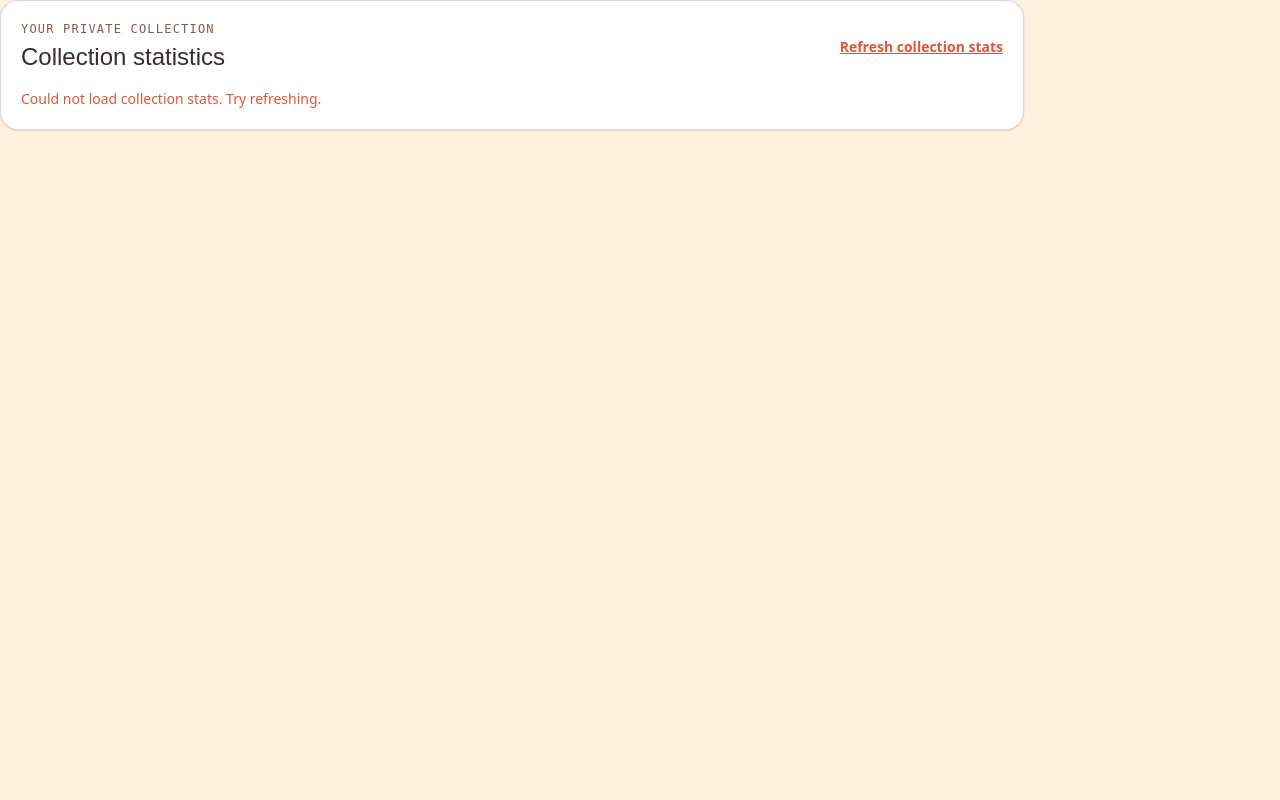
it: Private profile collection statistics › retries failed loads using refresh
expect the message "Could not load collection stats. Try refreshing." is shown: met, box [21,89,321,108]
Click the button "Refresh collection stats". click: (921, 47)
box: [840,37,1003,57]
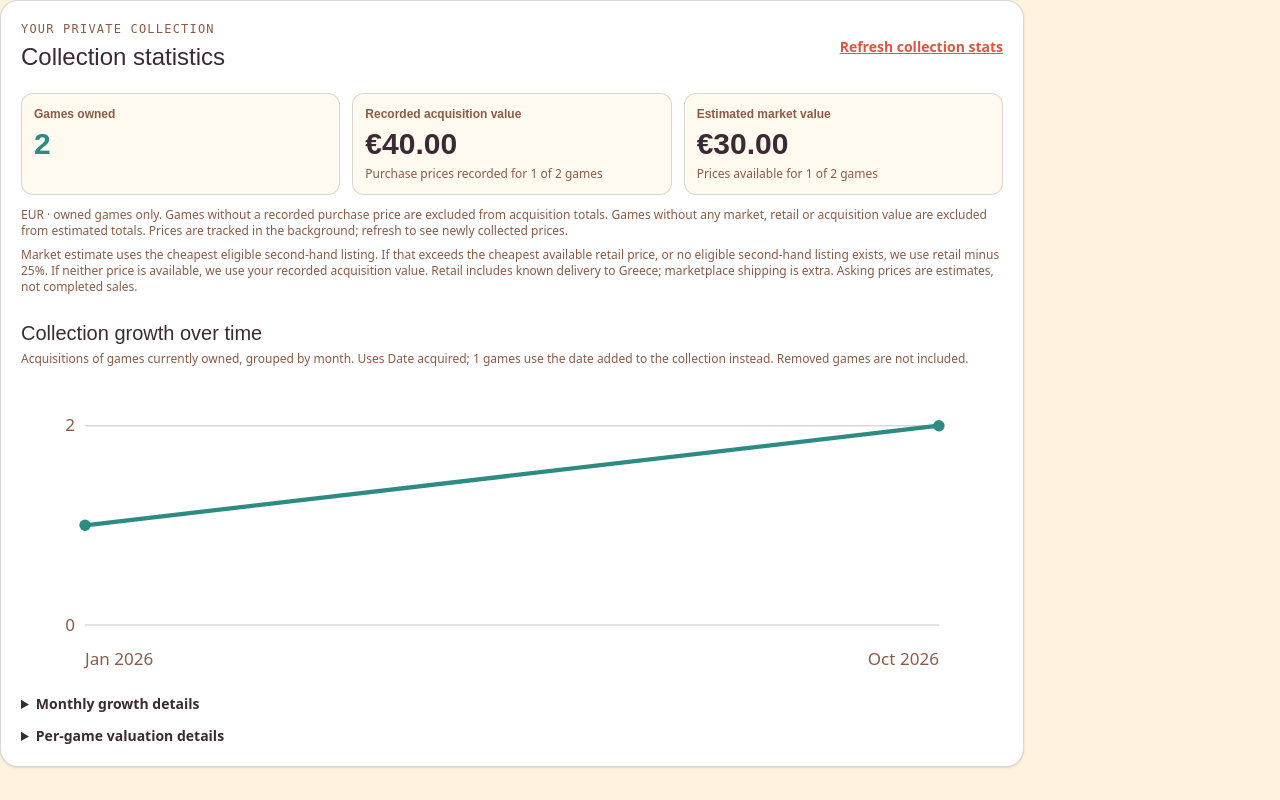
expect the heading "Games owned" is shown: met, box [34,107,115,121]
expect the message "Could not load collection stats. Try refreshing." is gone: met
